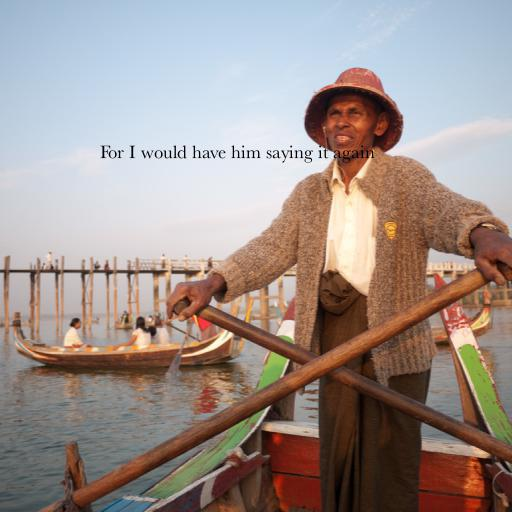Baskerville: (99, 145, 375, 163)
